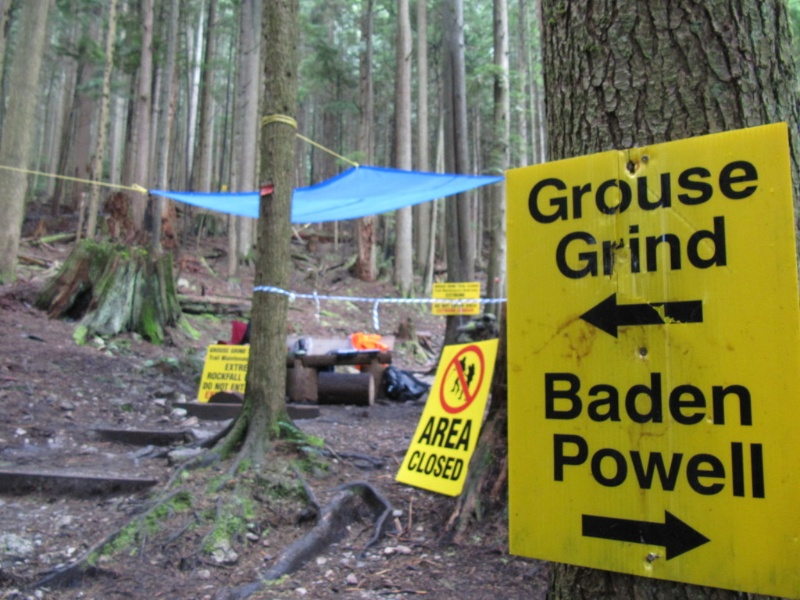area_closed: (391, 333, 494, 515)
